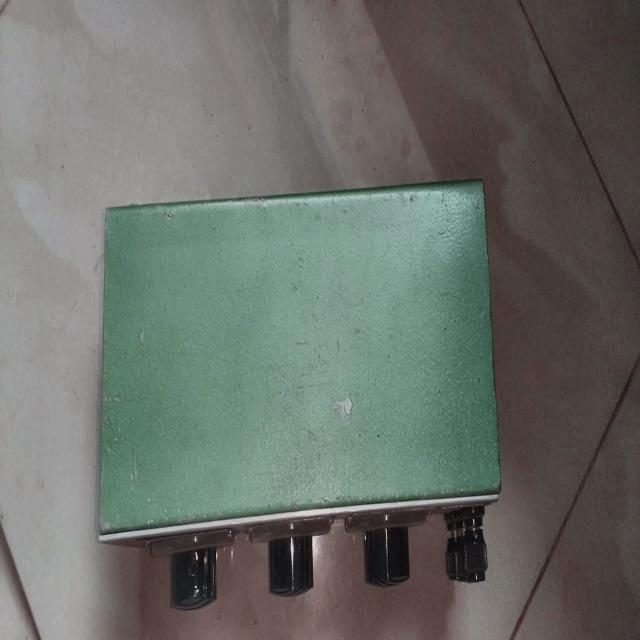Decade Resistance Box: (91, 176, 514, 615)
